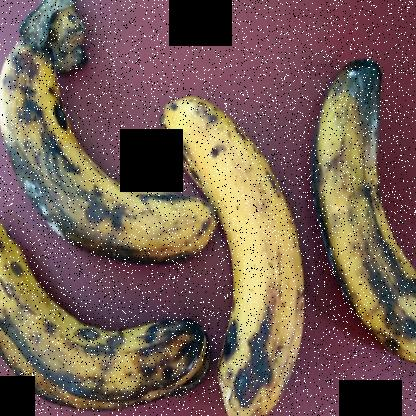overripe: (161, 83, 301, 415)
rotten: (1, 30, 204, 281), (1, 199, 223, 415), (301, 48, 415, 380)
